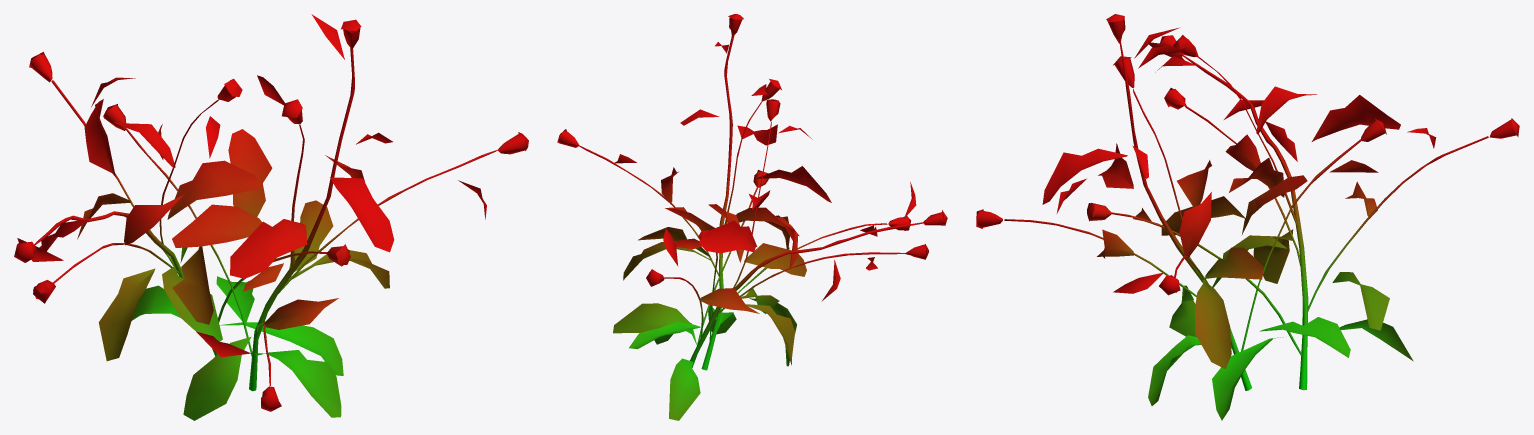
File: SM_Urb_Gar_Flower_Poppy_Set_01_B.FBX
3 views of the same model, side by side, from view 1: azimuth 30°, elevation 25°; view 2: azimuth 150°, elevation 25°; view 3: azimuth 270°, elevation 25° (orthographic). The views are drawn at different scales.
Parts seen in each view (by area): view 1: SM_Urb_Gar_Flower_Poppy_Set_01_B_LOD0; view 2: SM_Urb_Gar_Flower_Poppy_Set_01_B_LOD0; view 3: SM_Urb_Gar_Flower_Poppy_Set_01_B_LOD0.
Boxes of the visible parts, x1,y1,x2,y2 form: SM_Urb_Gar_Flower_Poppy_Set_01_B_LOD0: [14, 14, 528, 420]; SM_Urb_Gar_Flower_Poppy_Set_01_B_LOD0: [557, 14, 947, 420]; SM_Urb_Gar_Flower_Poppy_Set_01_B_LOD0: [976, 14, 1519, 420].
Bounding box in the file's own units: 51.72 × 50.42 × 39.79.
